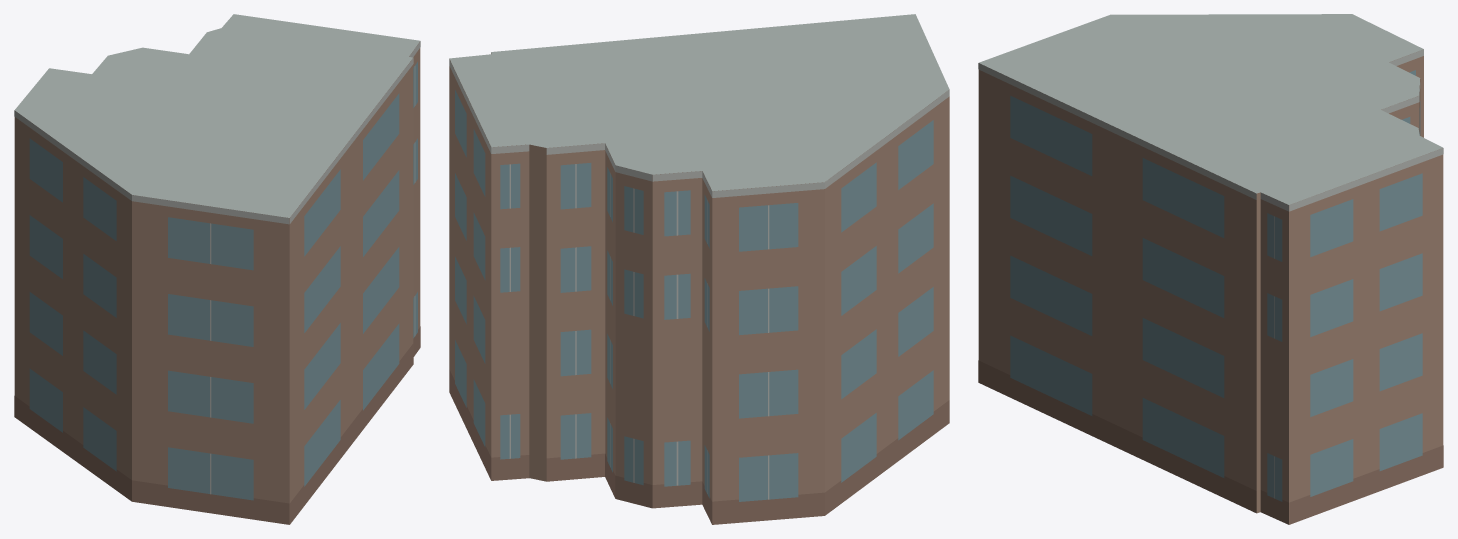
Rendered from survey-upis-32867095.glb.
3 renders of one model, left to right at view 1: azimuth 30°, elevation 25°; view 2: azimuth 150°, elevation 25°; view 3: azimuth 270°, elevation 25°, orthographic. The views are drawn at different scales.
Parts seen in each view (by area): view 1: survey-upis-32867095.tmp; view 2: survey-upis-32867095.tmp; view 3: survey-upis-32867095.tmp.
Part boxes in pixels (x1,y1,x2,y2): survey-upis-32867095.tmp: (14, 14, 420, 524); survey-upis-32867095.tmp: (449, 14, 949, 524); survey-upis-32867095.tmp: (978, 14, 1443, 524).
Bounding box in the file's own units: 15.13 × 11.8 × 15.56.
